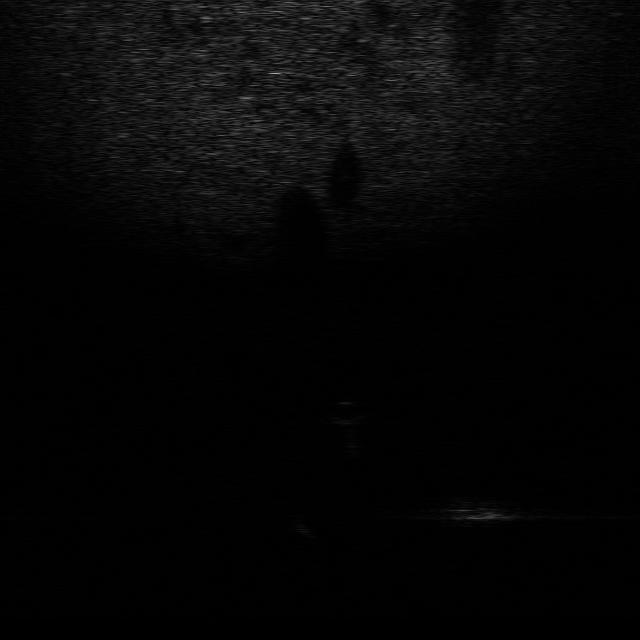ball: (319, 394, 369, 428)
metal bucket: (428, 494, 524, 530)
tyre: (286, 506, 342, 539)
